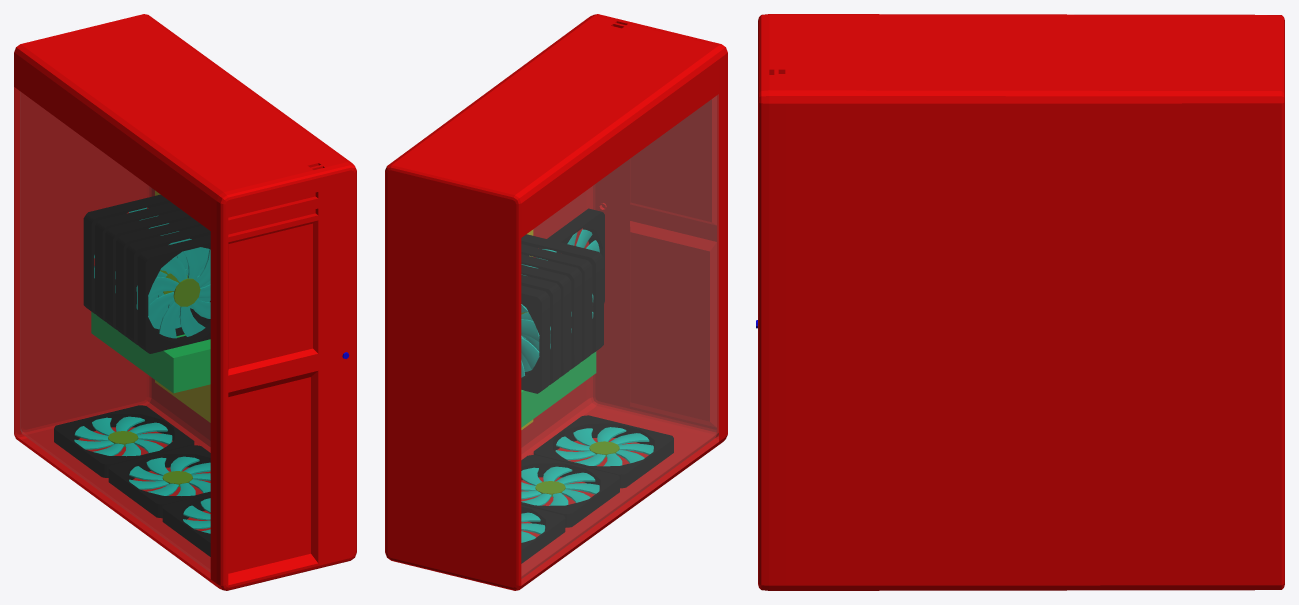
File: desktop.fbx
3 renders of one model, left to right at view 1: azimuth 30°, elevation 25°; view 2: azimuth 150°, elevation 25°; view 3: azimuth 270°, elevation 25°, orthographic. The views are drawn at different scales.
Visible parts, largest first — view 1: polySurface1; view 2: polySurface1; view 3: polySurface1.
Boxes of the visible parts, <box> form: polySurface1: <box>14,14,356,590</box>; polySurface1: <box>385,14,727,590</box>; polySurface1: <box>756,14,1284,590</box>.
Bounding box in the file's own units: 0.3197 × 0.8826 × 0.8457.
